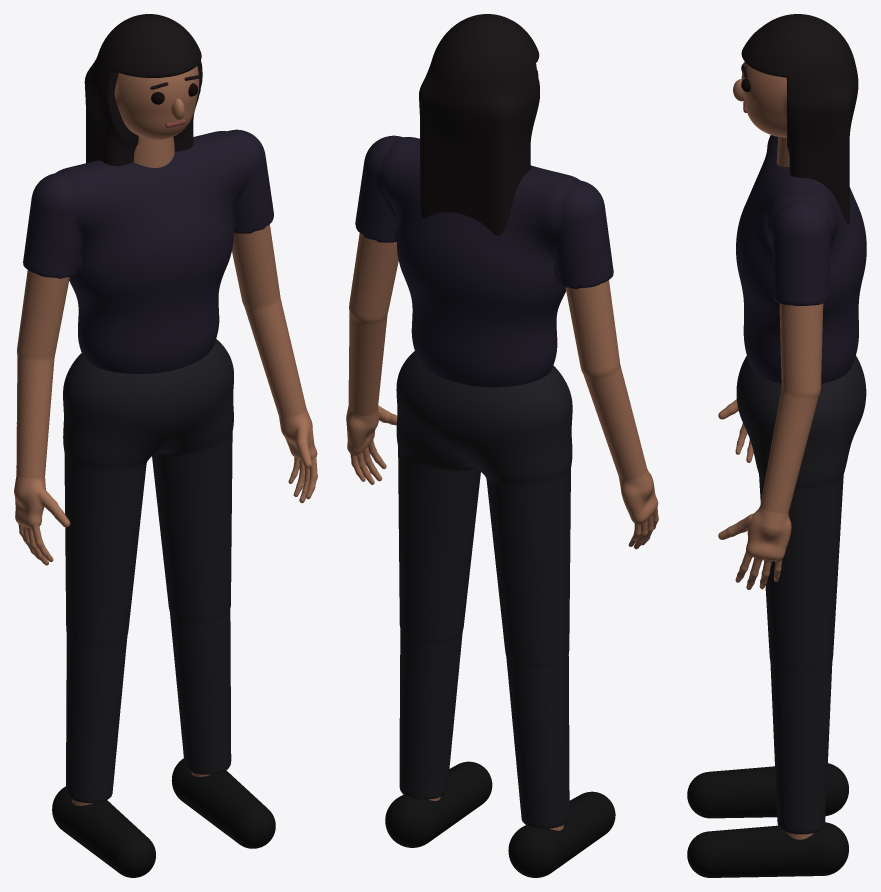
File: full-body.glb
3 views of the same model, side by side, from view 1: azimuth 30°, elevation 25°; view 2: azimuth 150°, elevation 25°; view 3: azimuth 270°, elevation 25° (orthographic). The views are drawn at different scales.
Visible parts, largest first — view 1: clothing.bottom, clothing.top, arms, clothing.shoes, hair, hands, head, neck, face; view 2: clothing.bottom, clothing.top, hair, arms, clothing.shoes, hands; view 3: clothing.bottom, clothing.top, hair, clothing.shoes, arms, hands, head, face.
Boxes of the visible parts, x1,y1,x2,y2 form: clothing.bottom: (63,339,233,803); clothing.top: (23,129,273,373); arms: (16,224,306,478); clothing.shoes: (52,758,275,877); hair: (84,14,202,166); hands: (14,409,317,565); head: (114,66,199,139); neck: (133,136,174,167); face: (150,75,200,127); clothing.bottom: (396,351,572,828); clothing.top: (355,135,613,387); hair: (419,14,539,235); arms: (348,233,647,480); clothing.shoes: (385,761,615,877); hands: (346,405,658,549); clothing.bottom: (736,355,866,834); clothing.top: (736,135,866,383); hair: (741,14,858,224); clothing.shoes: (687,763,848,877); arms: (760,303,823,513); hands: (718,399,791,589); head: (741,61,786,137); face: (733,59,750,112).
Size of the model in its own units: 0.6674 by 1.76 by 0.3459.
